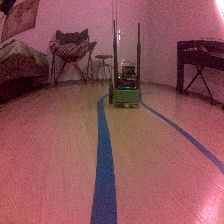rob: (107, 64, 142, 109)
